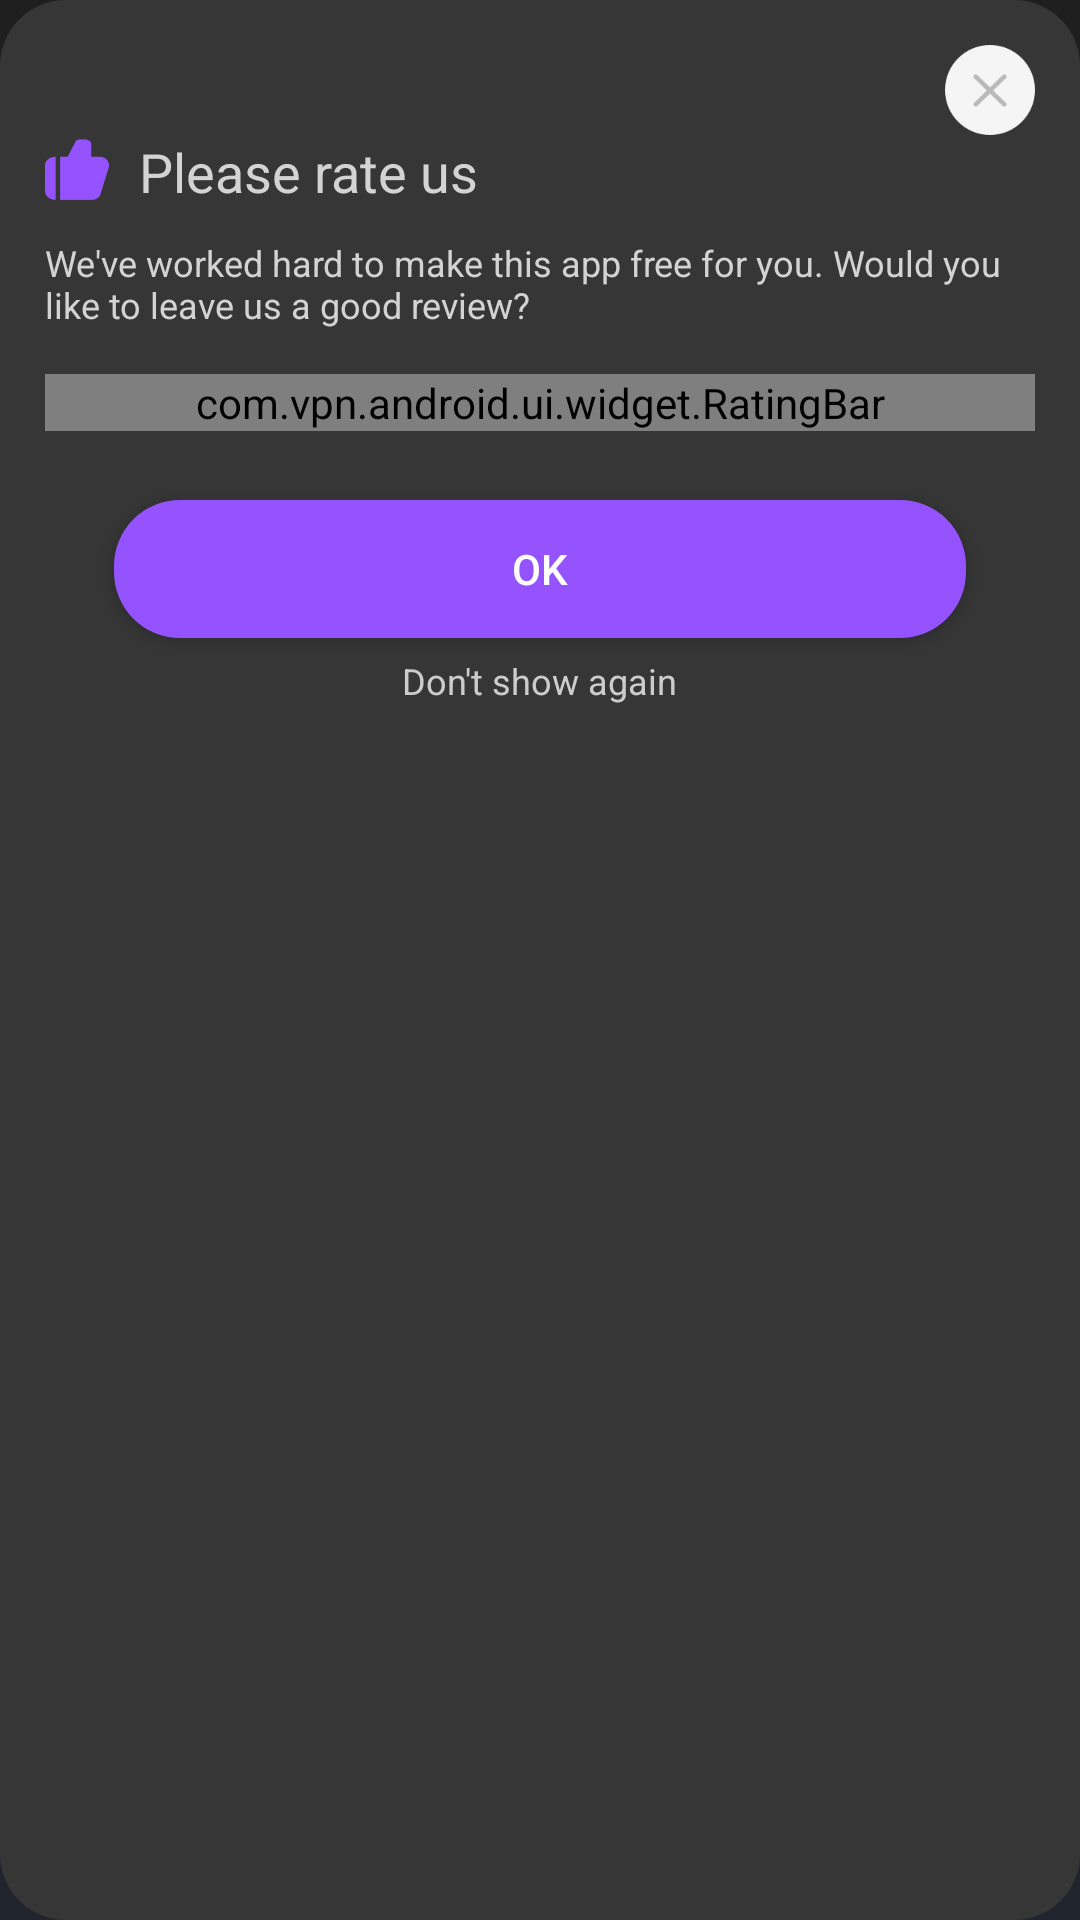

Icon click points for this 1080w x 1920h phone screenshot, format point (x, y):
close: point (990, 90)
